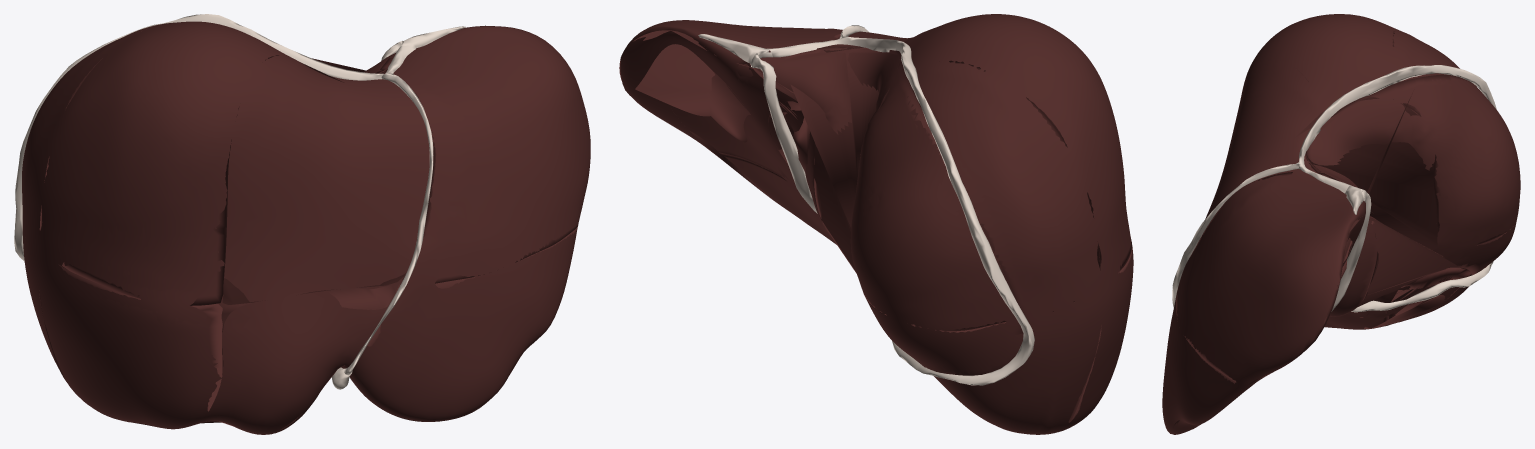
Rendered from vh_f_liver-80.glb.
3 views of the same model, side by side, from view 1: azimuth 30°, elevation 25°; view 2: azimuth 150°, elevation 25°; view 3: azimuth 270°, elevation 25° (orthographic). The views are drawn at different scales.
Parts seen in each view (by area): view 1: VH_F_capsule_of_the_liver, VH_F_right_anterosuperior_segment, VH_F_right_anteroinferior_segment, VH_F_coronary_ligament_of_liver, VH_F_left_superomedial_segment, VH_F_falciform_ligament, VH_F_left_inferomedial_segment, VH_F_left_superomedial_segment1, VH_F_left_anterolateral_segment; view 2: VH_F_capsule_of_the_liver, VH_F_bare_area_of_liver, VH_F_coronary_ligament_of_liver, VH_F_caudate_lobe, VH_F_right_posterosuperior_segment, VH_F_diaphragmatic_surface_of_liver, VH_F_left_superomedial_segment, VH_F_ligamentum_venosum, VH_F_gastric_impression_of_liver, VH_F_left_anterolateral_segment, VH_F_right_posteroinferior_segment, VH_F_right_anterosuperior_segment (+3 smaller); view 3: VH_F_capsule_of_the_liver, VH_F_bare_area_of_liver, VH_F_caudate_lobe, VH_F_coronary_ligament_of_liver, VH_F_right_posterosuperior_segment, VH_F_left_superomedial_segment, VH_F_falciform_ligament, VH_F_ligamentum_venosum, VH_F_renal_impression_of_liver, VH_F_suprarenal_impression_of_liver, VH_F_right_posteroinferior_segment.
Part boxes in pixels (x1,y1,x2,y2): VH_F_capsule_of_the_liver: (22,21,590,434); VH_F_right_anterosuperior_segment: (39,23,278,305); VH_F_right_anteroinferior_segment: (39,264,222,426); VH_F_coronary_ligament_of_liver: (14,14,413,261); VH_F_left_superomedial_segment: (380,29,581,283); VH_F_falciform_ligament: (344,73,433,375); VH_F_left_inferomedial_segment: (209,285,395,432); VH_F_left_superomedial_segment1: (222,58,433,304); VH_F_left_anterolateral_segment: (342,226,577,419); VH_F_capsule_of_the_liver: (619,14,1133,434); VH_F_bare_area_of_liver: (749,47,1023,375); VH_F_coronary_ligament_of_liver: (767,36,1034,385); VH_F_caudate_lobe: (779,47,889,235); VH_F_right_posterosuperior_segment: (851,61,1100,331); VH_F_diaphragmatic_surface_of_liver: (619,30,1055,434); VH_F_left_superomedial_segment: (622,22,840,179); VH_F_ligamentum_venosum: (751,53,817,213); VH_F_gastric_impression_of_liver: (681,71,813,228); VH_F_left_anterolateral_segment: (719,152,832,238); VH_F_right_posteroinferior_segment: (866,299,1101,434); VH_F_right_anterosuperior_segment: (897,30,1132,269); VH_F_capsule_of_the_liver: (1162,14,1472,434); VH_F_bare_area_of_liver: (1305,74,1520,300); VH_F_caudate_lobe: (1305,98,1438,315); VH_F_coronary_ligament_of_liver: (1298,65,1496,312); VH_F_right_posterosuperior_segment: (1393,31,1518,244); VH_F_left_superomedial_segment: (1176,172,1365,381); VH_F_falciform_ligament: (1172,162,1299,307); VH_F_ligamentum_venosum: (1331,189,1371,311); VH_F_renal_impression_of_liver: (1364,284,1459,328); VH_F_suprarenal_impression_of_liver: (1401,267,1471,289); VH_F_right_posteroinferior_segment: (1387,226,1513,325).
Bounding box in the file's own units: 0.2471 × 0.17 × 0.1663.
